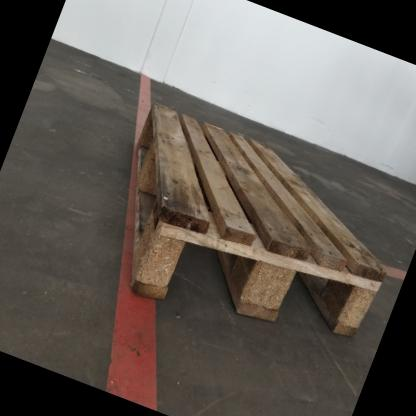BoxFace: (130, 98, 389, 342)
